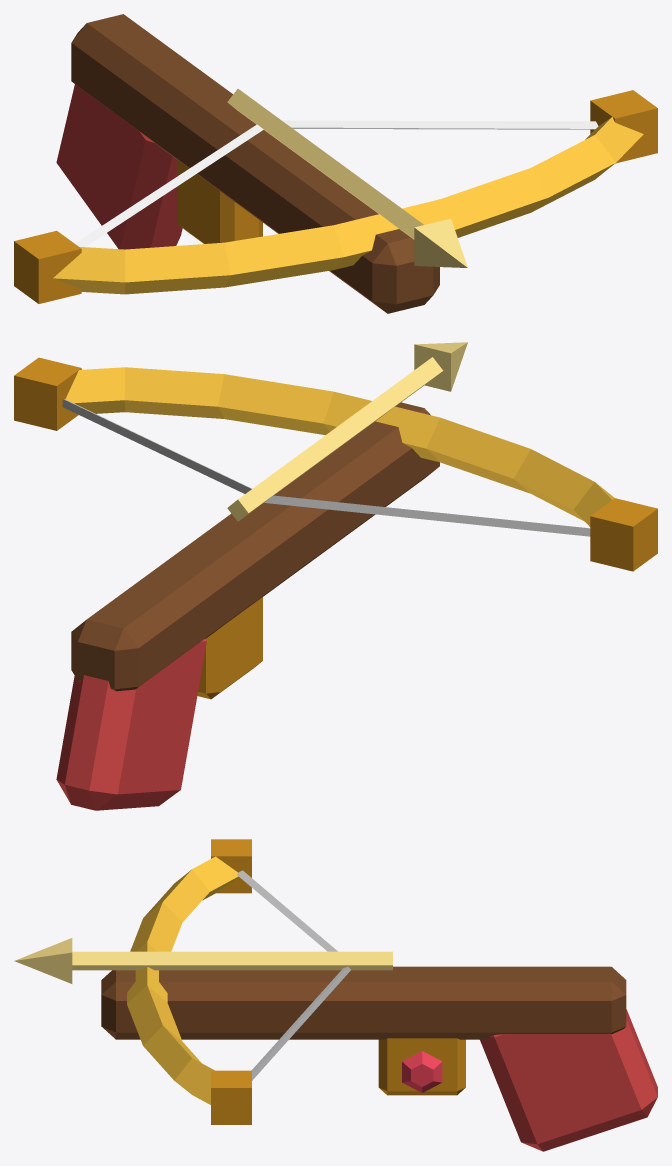
Rendered from GoldCrossbow.fbx.
3 renders of one model, top to bottom at view 1: azimuth 30°, elevation 25°; view 2: azimuth 150°, elevation 25°; view 3: azimuth 270°, elevation 25°, orthographic. The views are drawn at different scales.
Visible parts, largest first — view 1: GoldCrossbow; view 2: GoldCrossbow; view 3: GoldCrossbow.
Boxes of the visible parts, x1=… form: GoldCrossbow: x1=14, y1=14, x2=657, y2=313; GoldCrossbow: x1=14, y1=342, x2=657, y2=810; GoldCrossbow: x1=14, y1=839, x2=657, y2=1151.
Bounding box in the file's own units: 2.02 × 0.7634 × 2.21.
1 material, 1 textured.
